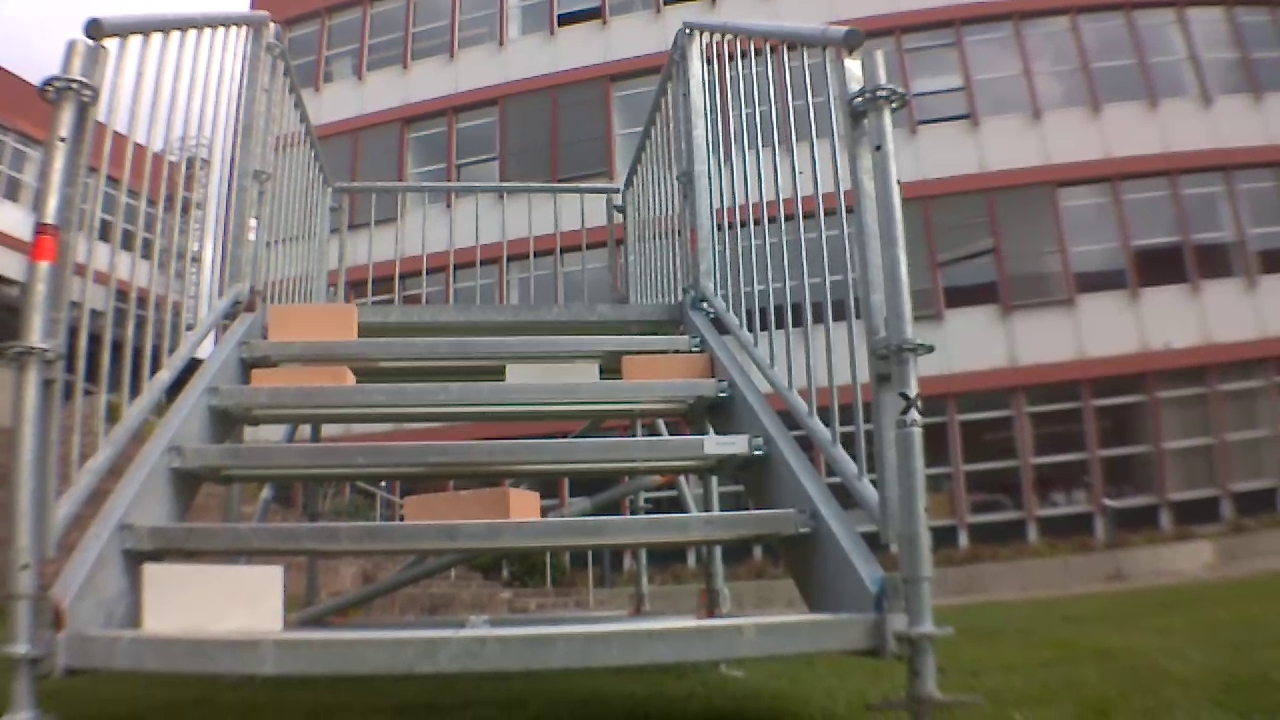brick: (143, 563, 282, 634), (405, 487, 537, 521), (267, 302, 357, 339), (251, 365, 354, 385), (623, 355, 711, 378), (506, 362, 598, 383)
edge: (65, 615, 877, 674), (118, 509, 822, 549), (169, 434, 770, 463), (204, 378, 734, 403), (239, 336, 702, 354), (263, 303, 684, 319)
stairs: (16, 11, 934, 715)
steps: (61, 299, 888, 683)
